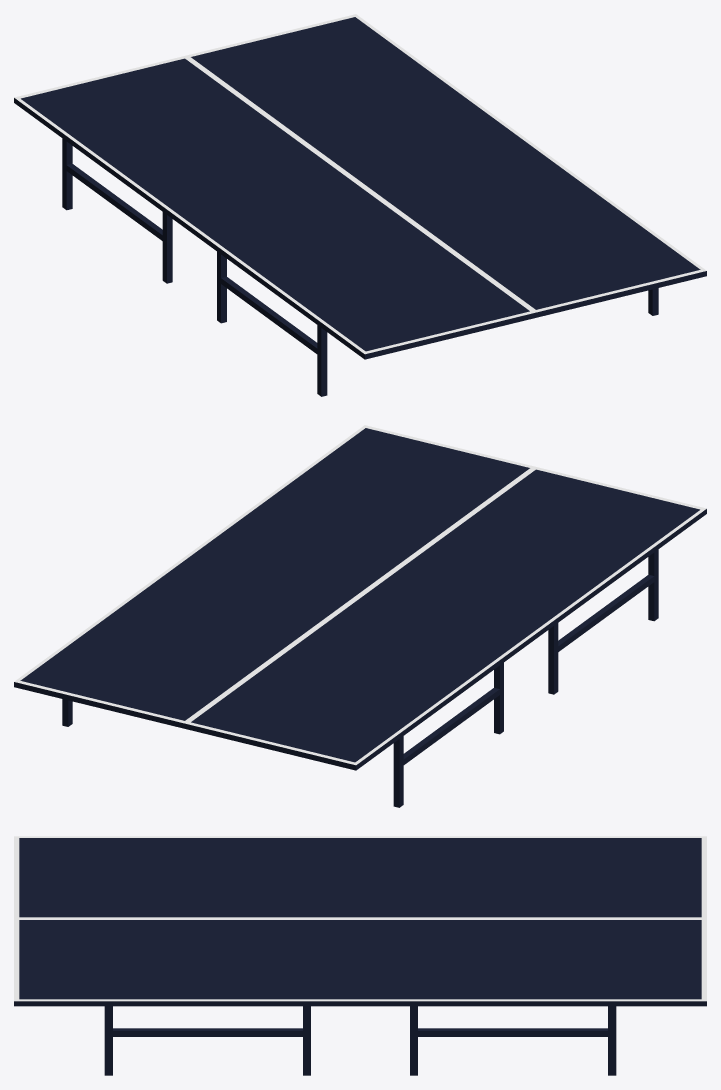
Rendered from table_tennis_table.gltf.
3 views of the same model, one above another, from view 1: azimuth 30°, elevation 25°; view 2: azimuth 150°, elevation 25°; view 3: azimuth 270°, elevation 25° (orthographic).
Visible parts, largest first — view 1: Table; view 2: Table; view 3: Table.
Boxes of the visible parts, <box> form: Table: <box>14,14,706,396</box>; Table: <box>14,425,706,807</box>; Table: <box>14,836,706,1075</box>.
Bounding box in the file's own units: 3.09 × 0.6612 × 5.48.
